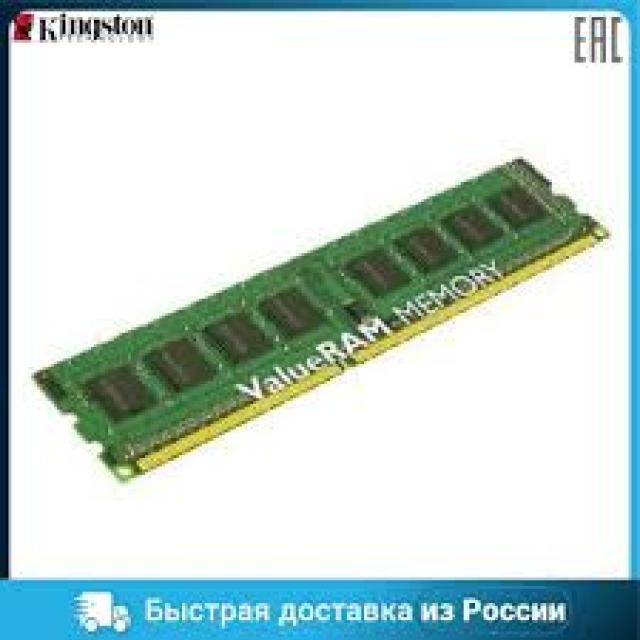Ram: (56, 146, 561, 473)
